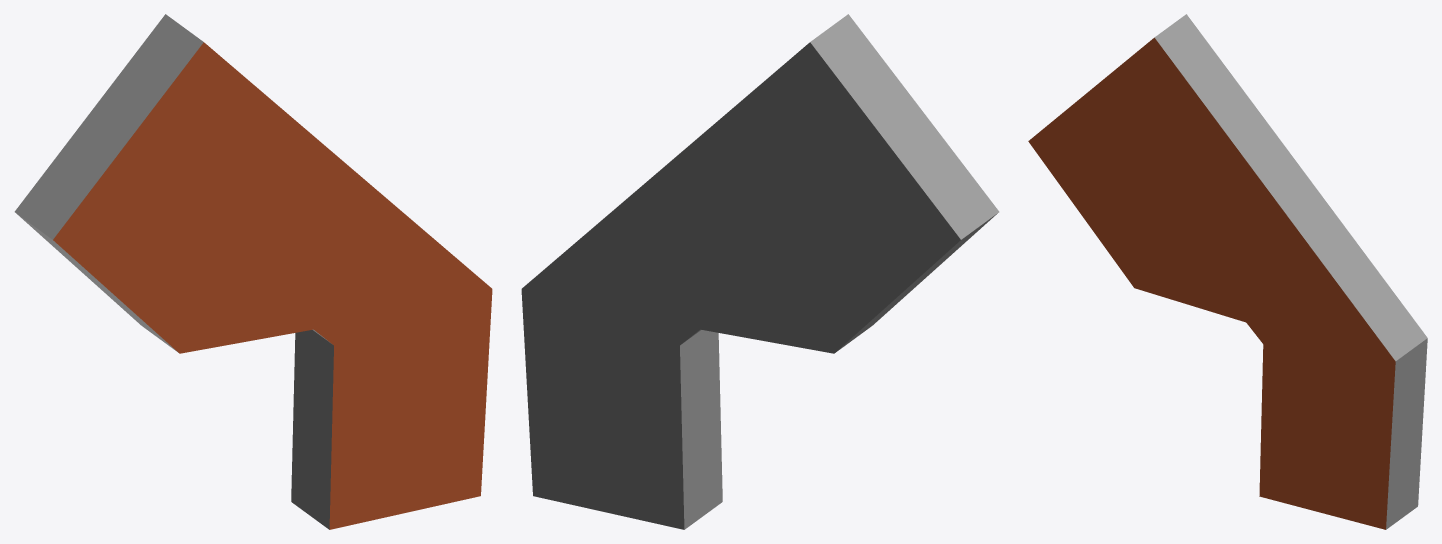
File: construction_0044_assumed_A_Cemiterio_h6m.obj
3 views of the same model, side by side, from view 1: azimuth 30°, elevation 25°; view 2: azimuth 150°, elevation 25°; view 3: azimuth 330°, elevation 25° (orthographic). The views are drawn at different scales.
Parts seen in each view (by area): view 1: construction_0044_assumed_A_Cemiterio; view 2: construction_0044_assumed_A_Cemiterio; view 3: construction_0044_assumed_A_Cemiterio.
Part boxes in pixels (bbox=[...]): construction_0044_assumed_A_Cemiterio: bbox=[14, 14, 492, 529]; construction_0044_assumed_A_Cemiterio: bbox=[521, 14, 999, 529]; construction_0044_assumed_A_Cemiterio: bbox=[1028, 14, 1427, 529].
Bounding box in the file's own units: 39.68 × 44.98 × 6.
